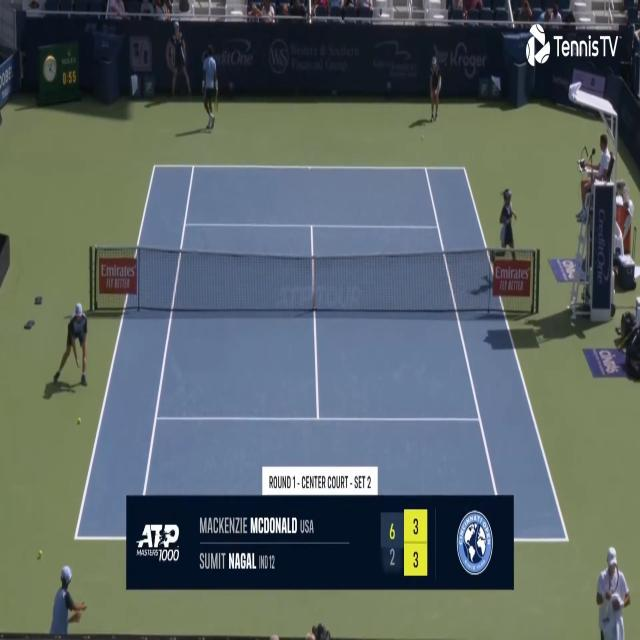tennis-player: (593, 544, 633, 639), (200, 42, 220, 132)
